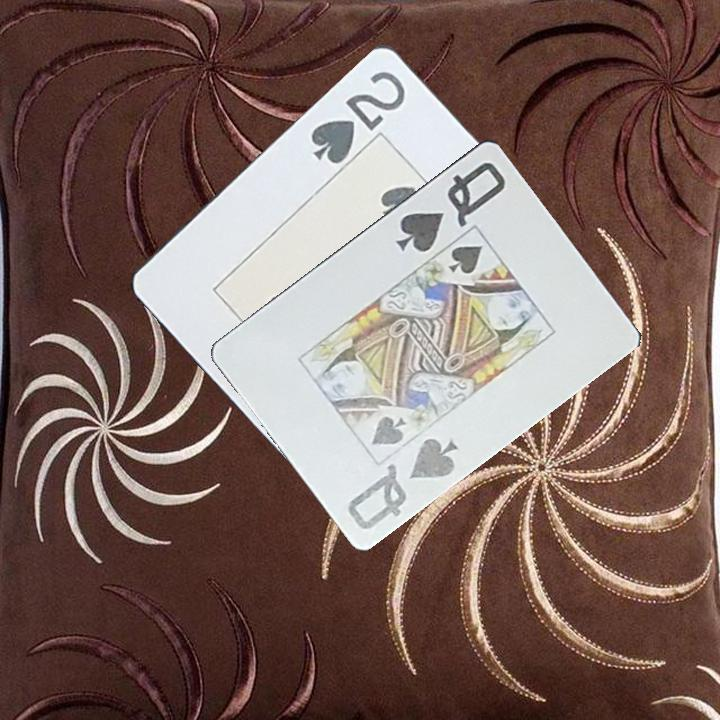2s: (307, 66, 409, 167)
Qs: (343, 431, 462, 532), (392, 157, 509, 255)
